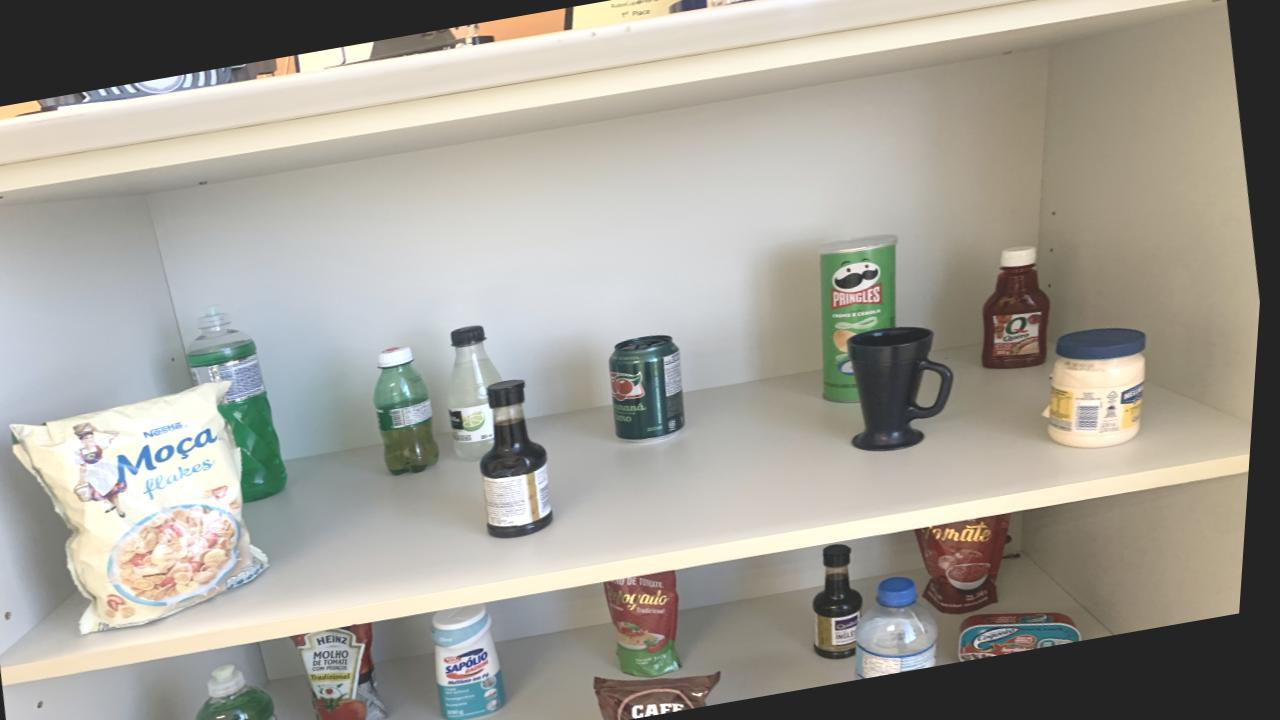Cleaner-Cleanup_Items: (440, 604, 516, 720)
Coffee-Pantry_Items: (602, 672, 729, 720)
Detergent-Cleanup_Items: (191, 306, 293, 501), (204, 665, 287, 720)
English_Sauce-Pantry_Items: (486, 379, 560, 538), (821, 543, 872, 659)
Flakes-Snacks: (17, 381, 276, 633)
Guarana-Drinks: (379, 346, 445, 474)
Guarana_Can-Drinks: (613, 334, 690, 442)
Ketchup-Pantry_Items: (986, 245, 1054, 369)
Mayonnaise-Pantry_Items: (1053, 327, 1152, 448)
Pringles-Snacks: (822, 233, 901, 402)
Soda-Drinks: (452, 325, 507, 461)
Tomato_Sauce-Pantry_Items: (922, 514, 1017, 614), (300, 622, 396, 720), (611, 570, 690, 676)
Tuna_Can-Pantry_Items: (966, 611, 1090, 661)
Water_Bottle-Drinks: (864, 576, 947, 678)
